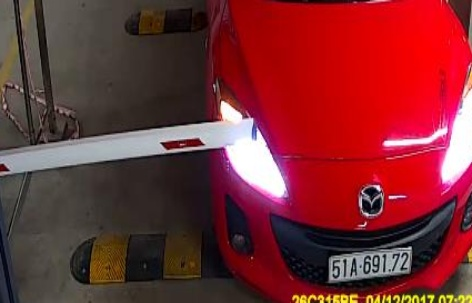plate: (321, 242, 417, 284)
